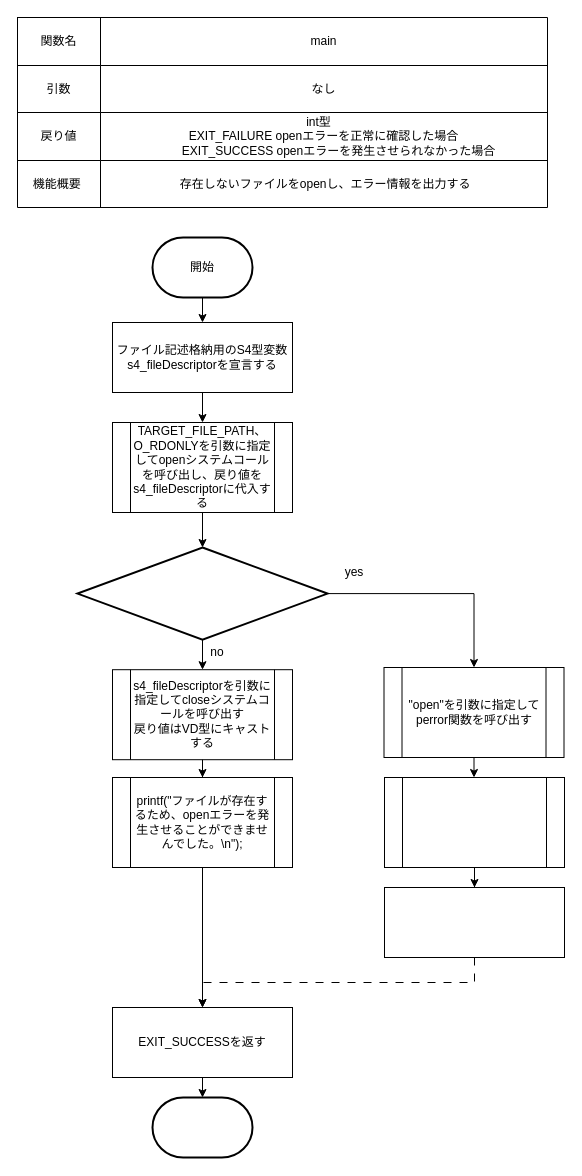
Some shapes in this 582 by 1176 pixel diagram are drawn without their labels. Here are the shapes that lost their labels. From the top down, the centre of each, then its label:
[202,593]: s4_fileDescriptorは OPEN_ERRORと等しいか
[474,822]: printf("errno = %d\n", errno)
[474,922]: EXIT_FAILUREを返す
[202,1127]: 終了
